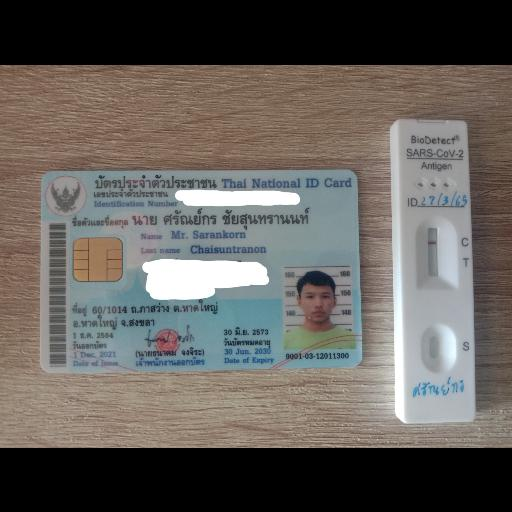Neg: (393, 119, 473, 423)
